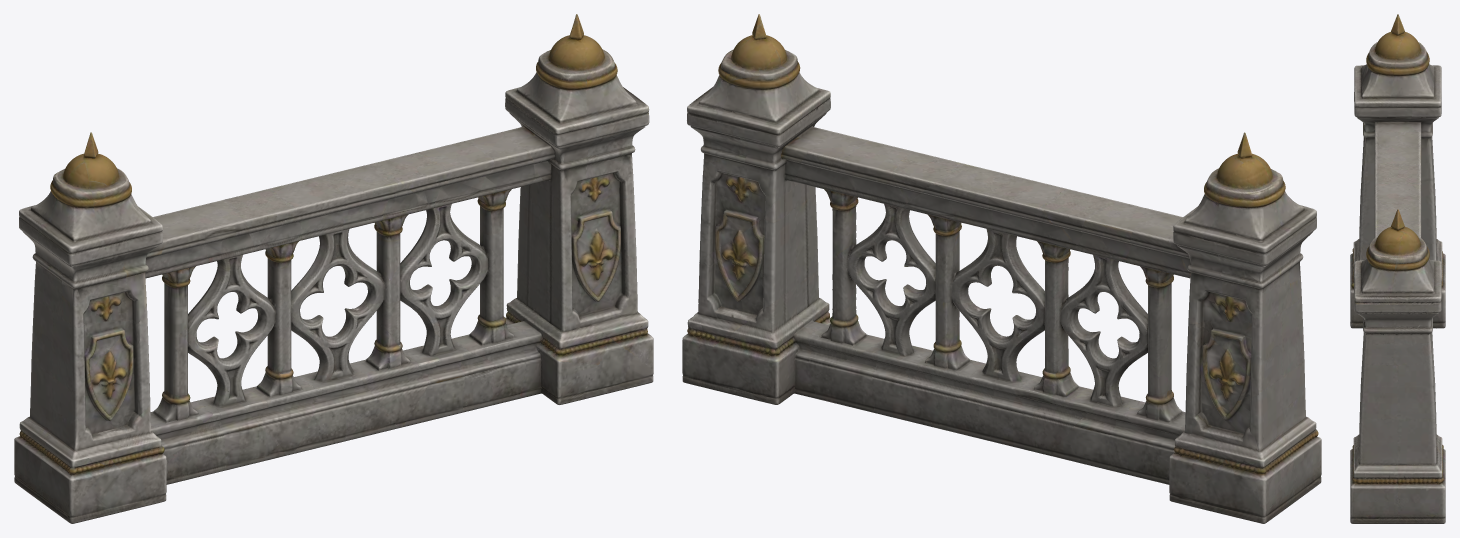
Rendered from royal-stone-fence.glb.
3 views of the same model, side by side, from view 1: azimuth 30°, elevation 25°; view 2: azimuth 150°, elevation 25°; view 3: azimuth 270°, elevation 25° (orthographic). The views are drawn at different scales.
Visible parts, largest first — view 1: mesh_node; view 2: mesh_node; view 3: mesh_node.
Part boxes in pixels (x1,y1,x2,y2): mesh_node: [14, 14, 653, 523]; mesh_node: [682, 14, 1321, 523]; mesh_node: [1350, 14, 1445, 523].
Bounding box in the file's own units: 1.9 × 1.12 × 0.3281.
1 material, 1 textured.
